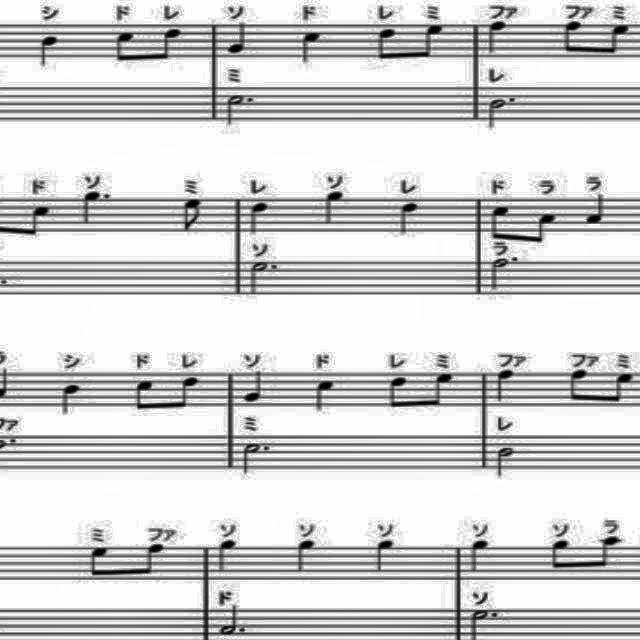Eighth-note: (416, 18, 448, 66), (172, 372, 204, 420), (16, 202, 56, 240), (154, 23, 186, 69), (529, 207, 559, 255), (604, 370, 636, 412), (427, 371, 458, 414), (608, 20, 636, 66), (383, 372, 413, 414), (372, 22, 398, 70), (110, 26, 138, 70), (564, 364, 592, 408), (176, 197, 204, 240), (138, 540, 168, 580), (591, 533, 621, 573), (488, 204, 518, 243), (558, 18, 586, 58), (130, 373, 156, 413), (86, 542, 110, 582), (550, 537, 574, 575)
Half-dot: (222, 92, 258, 132), (484, 93, 520, 131), (465, 604, 503, 640), (240, 434, 272, 476), (246, 260, 278, 300), (488, 252, 520, 292), (218, 601, 248, 639)
Half-note: (493, 441, 521, 479)
Quarter-dot: (77, 190, 111, 230)
Quarter-note: (35, 30, 65, 74), (296, 23, 324, 68), (312, 376, 340, 420), (246, 197, 274, 240), (464, 537, 492, 579), (483, 18, 512, 58), (318, 189, 347, 227), (242, 368, 270, 407), (493, 365, 519, 407), (225, 21, 253, 59), (396, 197, 420, 241), (582, 190, 608, 230), (294, 536, 318, 578), (372, 537, 398, 575), (216, 536, 240, 576), (60, 381, 84, 419)
